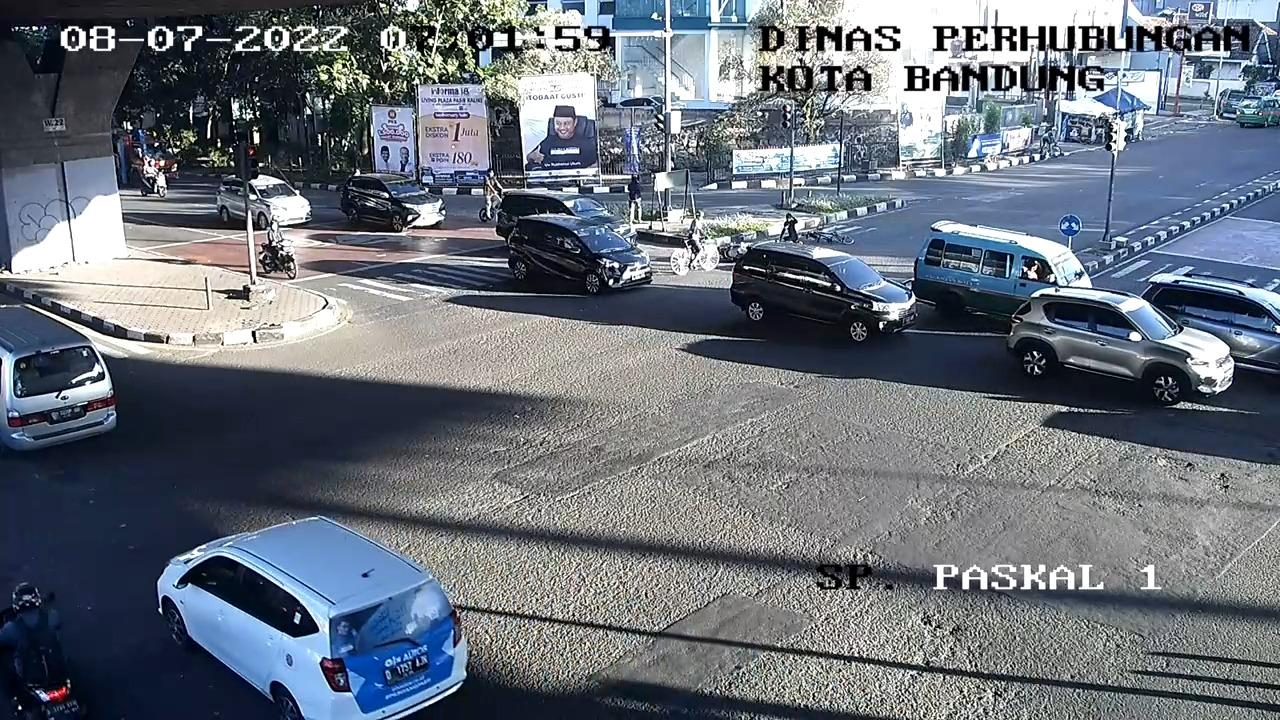accident: (766, 207, 810, 249)
